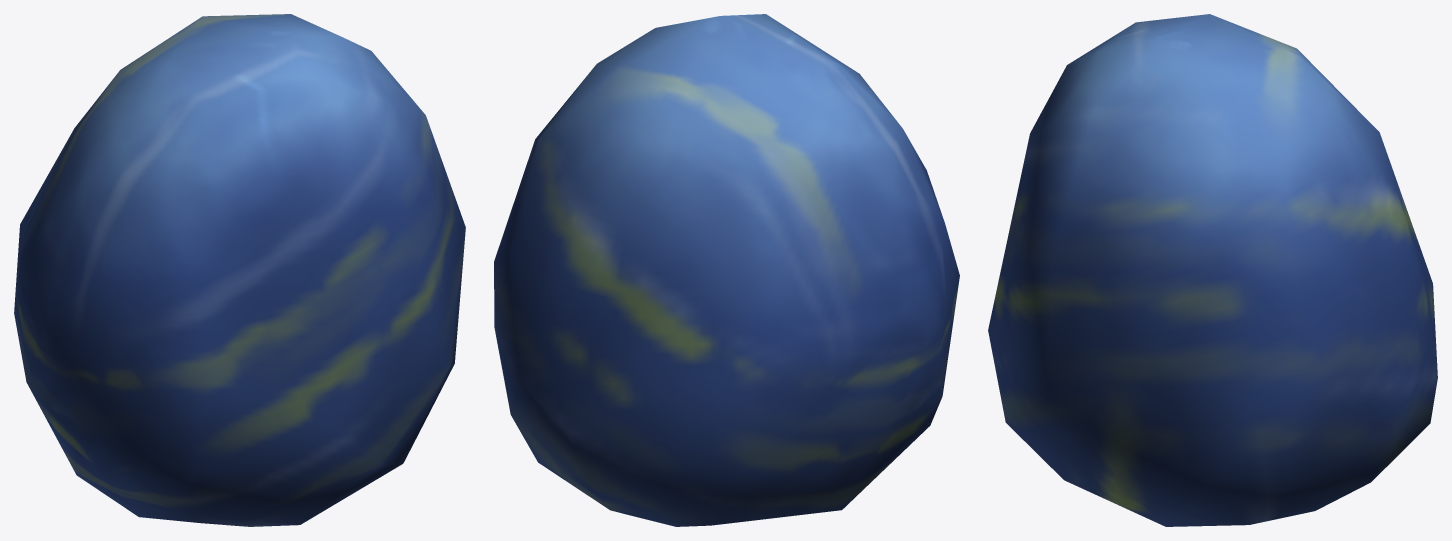
Rendered from SM_Gem_LapisLazuli_Piece_001.fbx.
3 renders of one model, left to right at view 1: azimuth 30°, elevation 25°; view 2: azimuth 150°, elevation 25°; view 3: azimuth 270°, elevation 25°, orthographic. The views are drawn at different scales.
Parts seen in each view (by area): view 1: SM_Gem_LapisLazuli_Piece_001; view 2: SM_Gem_LapisLazuli_Piece_001; view 3: SM_Gem_LapisLazuli_Piece_001.
Part boxes in pixels (x1=…): SM_Gem_LapisLazuli_Piece_001: x1=14, y1=14, x2=465, y2=526; SM_Gem_LapisLazuli_Piece_001: x1=494, y1=14, x2=959, y2=526; SM_Gem_LapisLazuli_Piece_001: x1=988, y1=14, x2=1437, y2=526.
Size of the model in its own units: 15.68 by 17.37 by 14.78.
